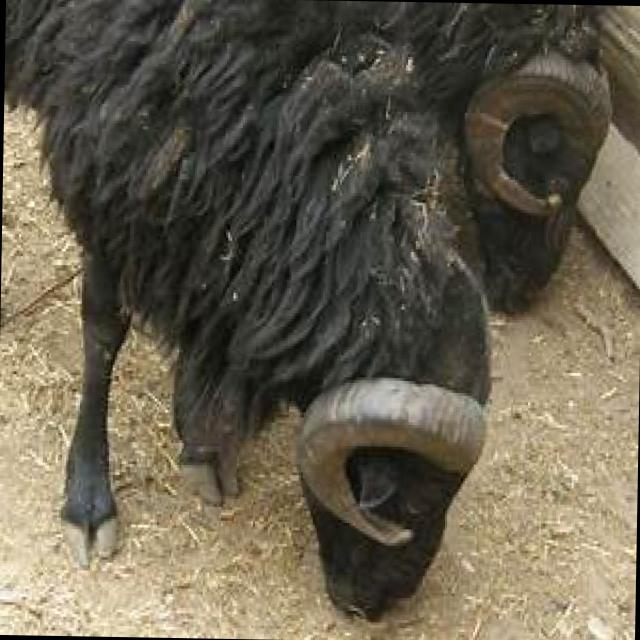sheep: (0, 0, 502, 615), (400, 1, 610, 315)
